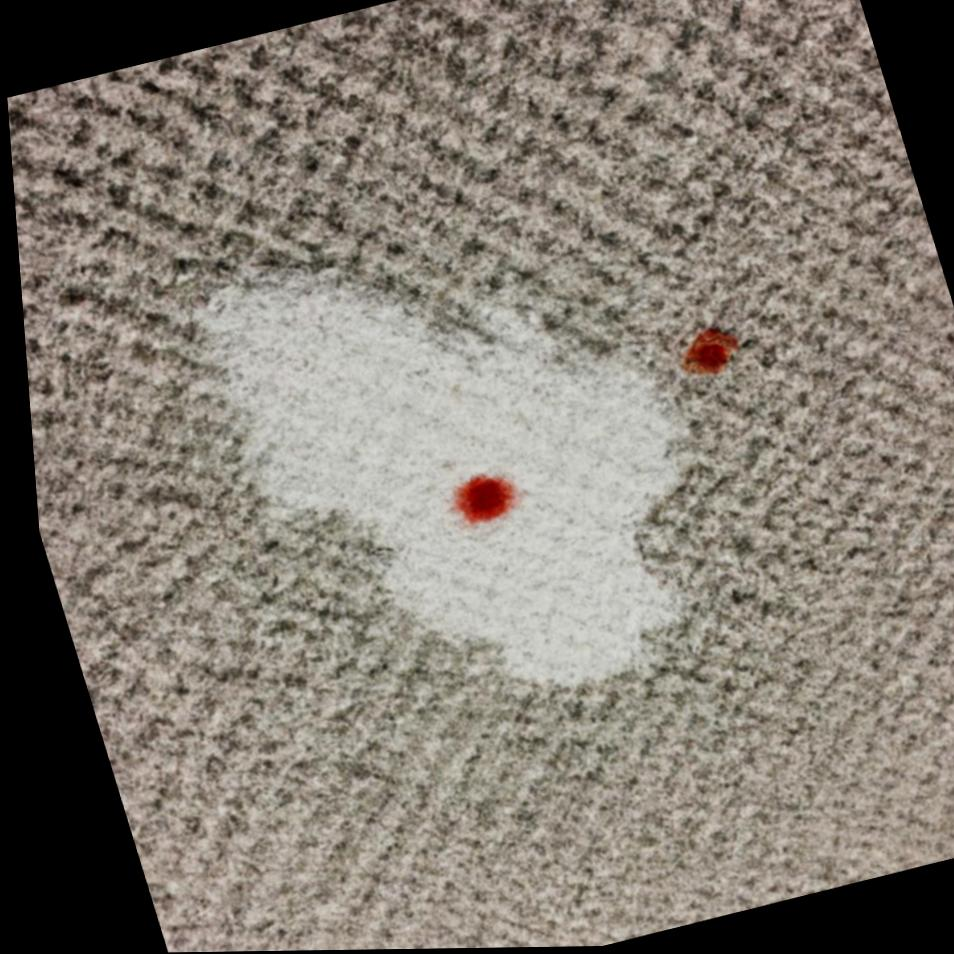Fire: (447, 478, 508, 527), (676, 331, 733, 378)
